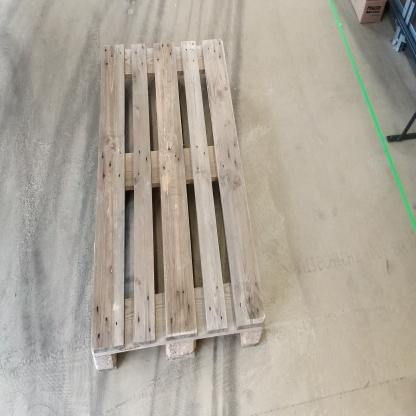BoxFace: (85, 32, 274, 380)
